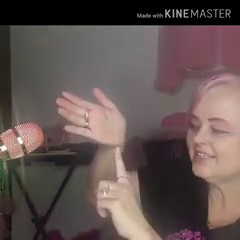T: (52, 81, 152, 240)
